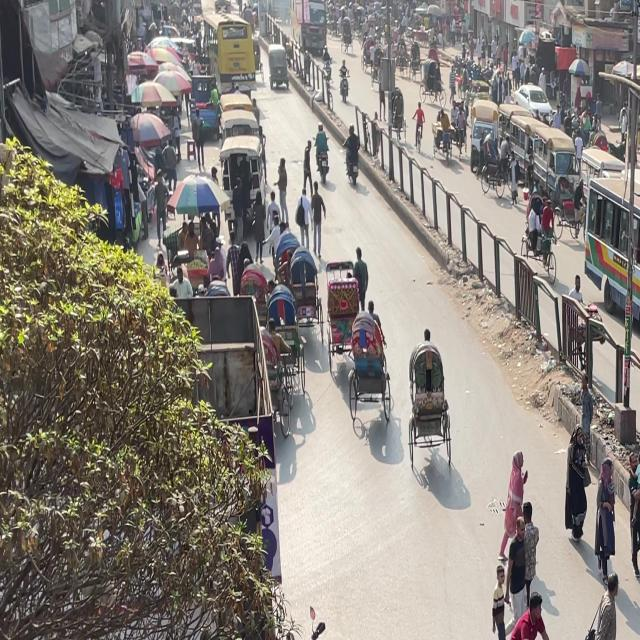bicycle: (488, 636, 578, 640)
motorbike: (273, 593, 366, 640)
van: (578, 164, 640, 340)
